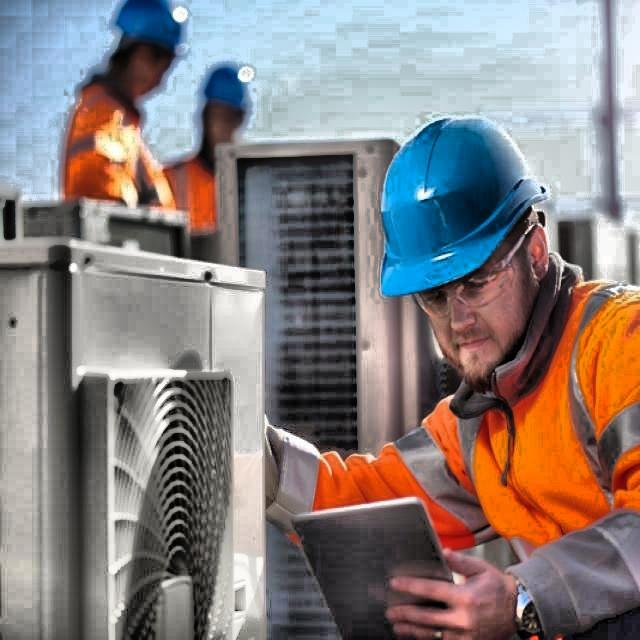person: (298, 115, 640, 620), (72, 3, 189, 205)
